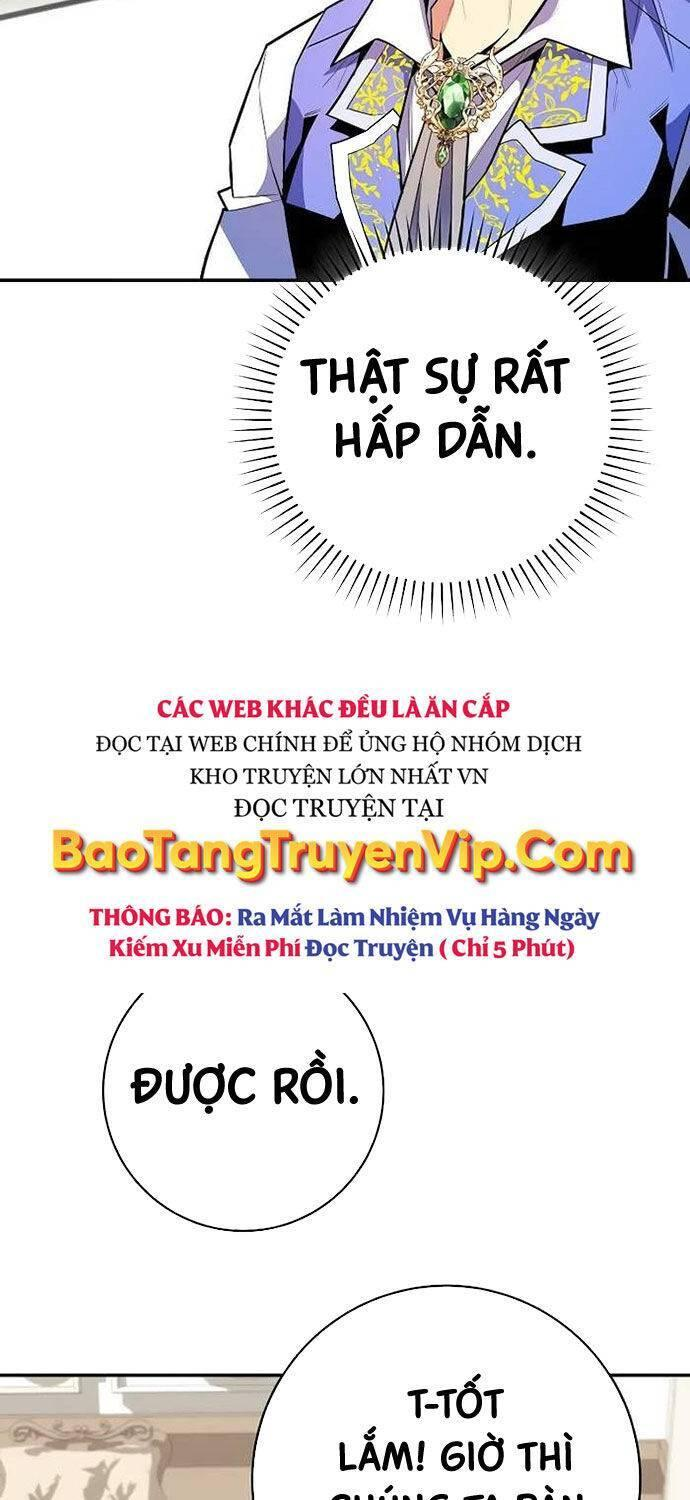quangcao: (42, 682, 644, 968)
